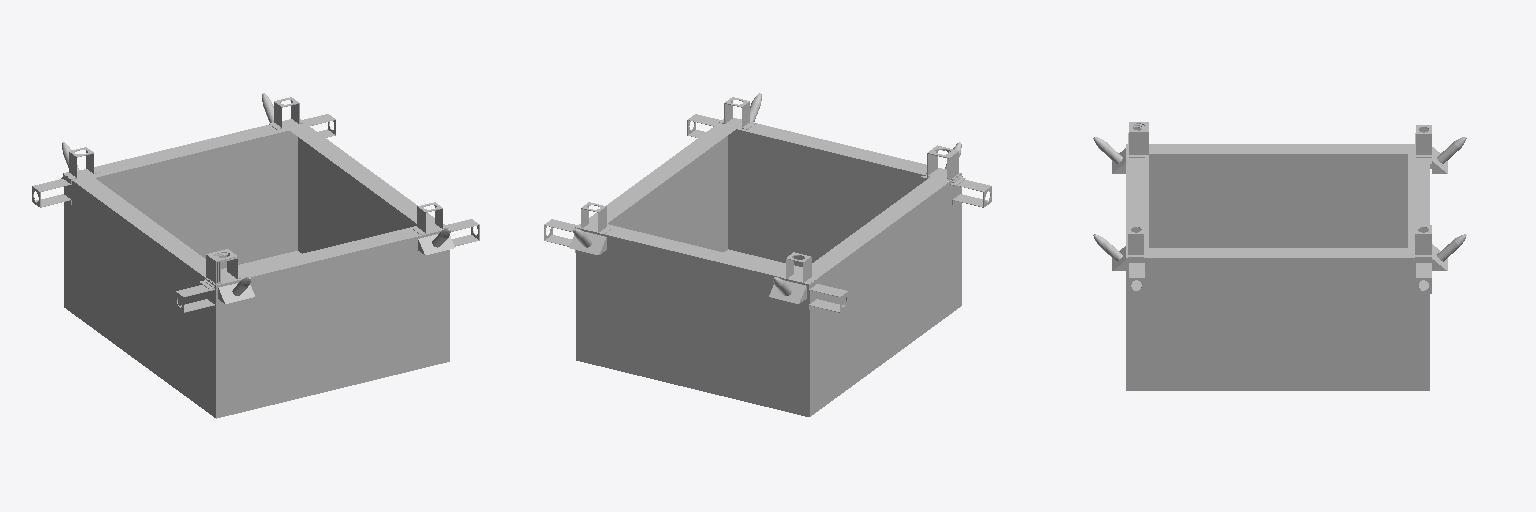
Rendered from Probe.obj.
The picture shows the model from 3 angles: view 1: azimuth 30°, elevation 25°; view 2: azimuth 150°, elevation 25°; view 3: azimuth 270°, elevation 25°; orthographic projection.
Visible parts, largest first — view 1: Box083, Box103, Box145, Box157, Box146; view 2: Box083, Box103, Box157, Box145, Box146; view 3: Box083, Box103, Box157, Box149, Box151, Box150, Box104, Box148.
Part boxes in pixels (x1,y1,x2,y2): Box083: (64, 119, 449, 418); Box103: (61, 93, 454, 303); Box145: (32, 174, 71, 207); Box157: (200, 249, 237, 289); Box146: (176, 279, 214, 312); Box083: (576, 118, 961, 416); Box103: (569, 93, 961, 303); Box157: (921, 145, 965, 185); Box145: (809, 279, 847, 312); Box146: (952, 174, 991, 207); Box083: (1126, 144, 1429, 390); Box103: (1093, 137, 1466, 270); Box157: (1129, 122, 1148, 154); Box149: (1129, 258, 1144, 293); Box151: (1416, 258, 1431, 293); Box150: (1415, 225, 1431, 257); Box104: (1416, 125, 1431, 157); Box148: (1128, 225, 1143, 257).
Bounding box in the file's own units: 261 × 131 × 285.